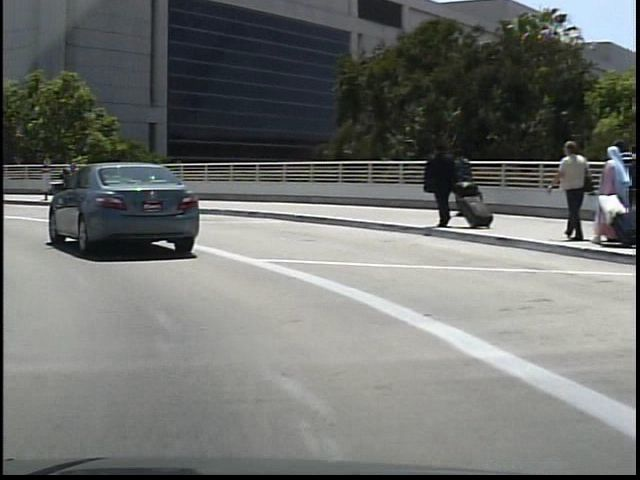person: (545, 134, 591, 244), (420, 139, 460, 226), (445, 143, 478, 219)
